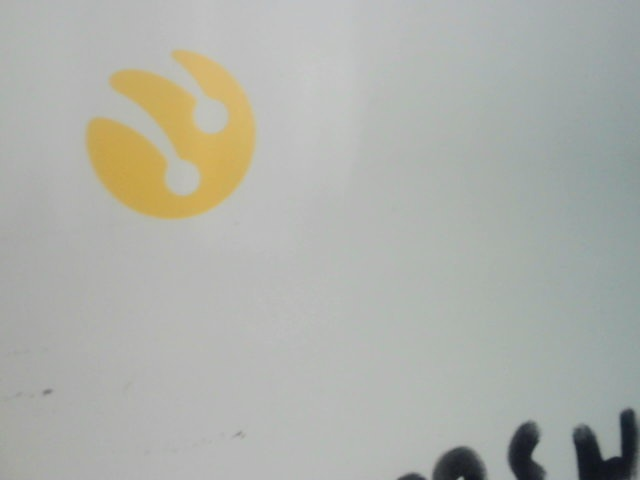AV_H3600Yellow: (68, 48, 269, 221)
